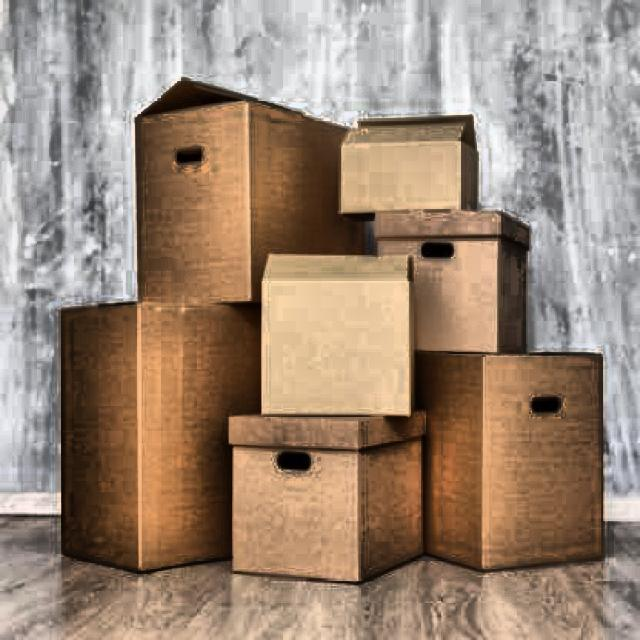Cardbox: (25, 283, 303, 572), (128, 49, 366, 316), (396, 342, 629, 583), (225, 390, 452, 594), (251, 233, 427, 425), (363, 198, 541, 364), (322, 85, 496, 217)
